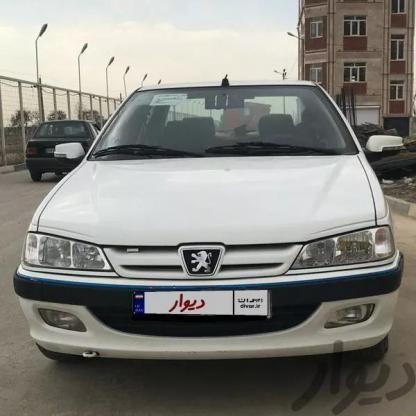Car: (0, 71, 416, 376), (14, 107, 106, 172)
